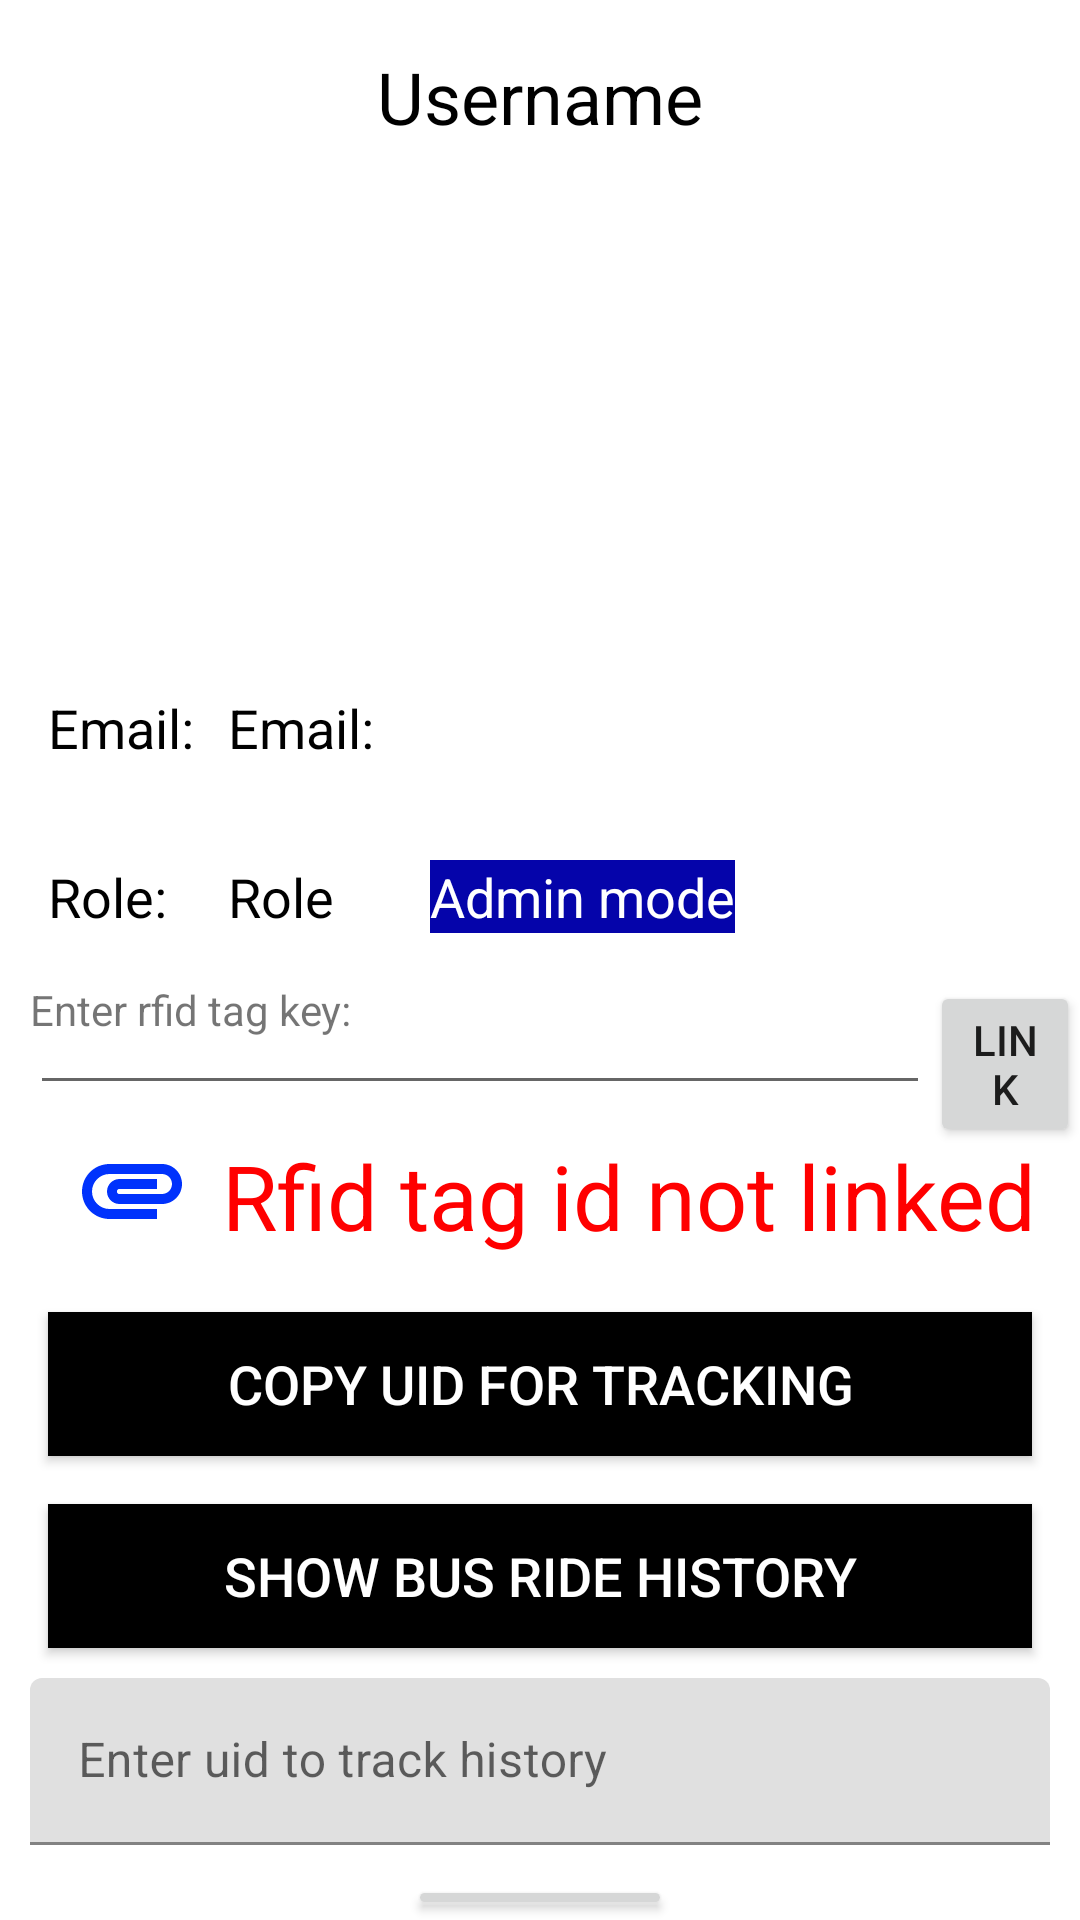

Icon click points for this 1080*1920 phone screenshot, format (x,y):
link tag: (132,1191)
